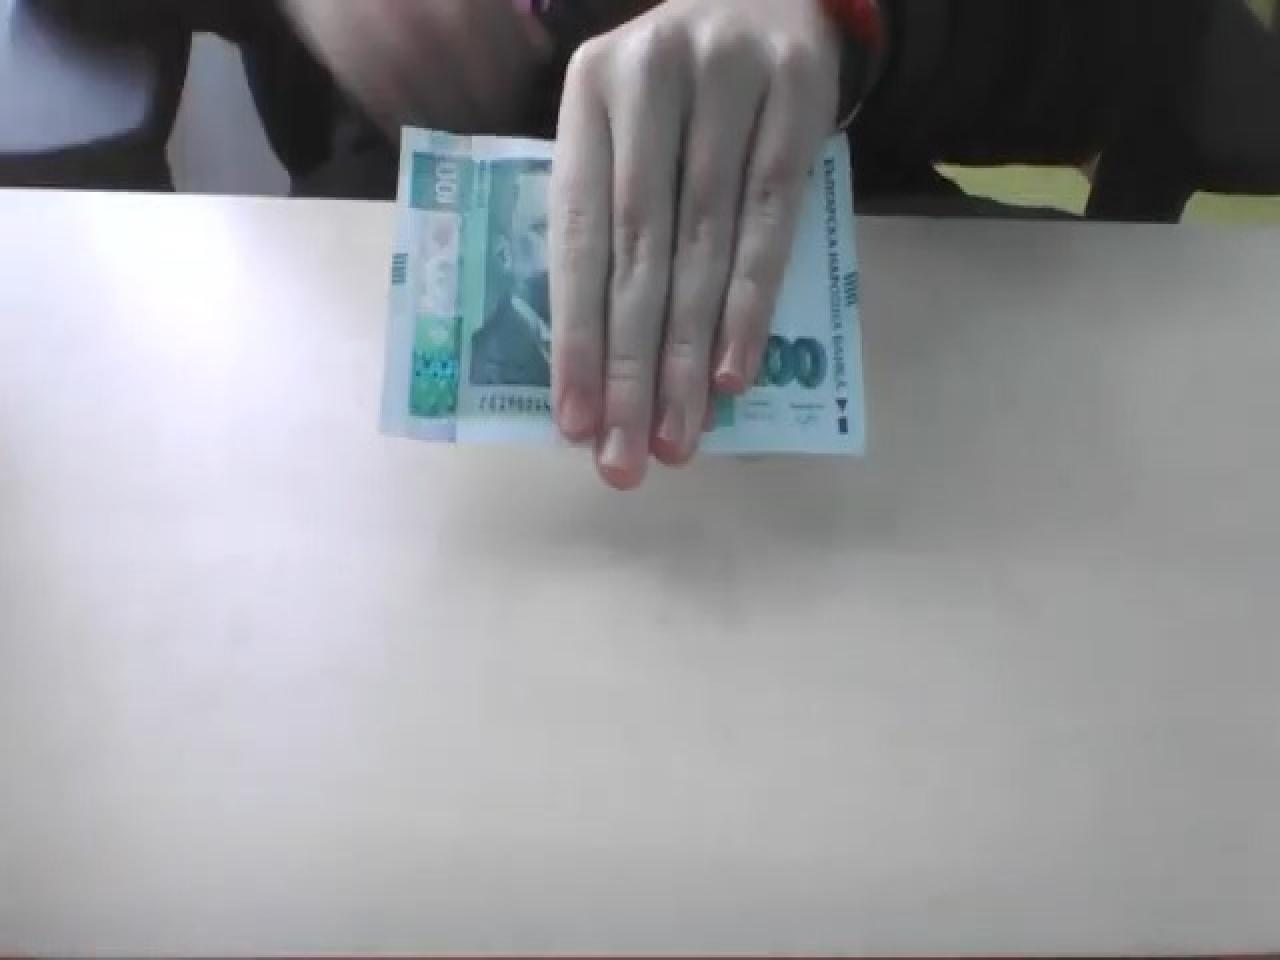100leva: (378, 120, 868, 459)
